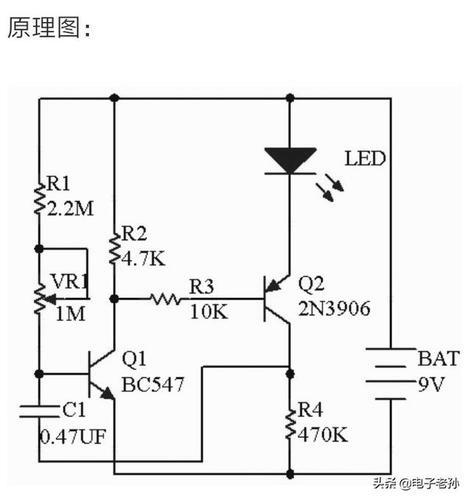cap1: (12, 403, 66, 423)
diode: (258, 144, 323, 180)
power2: (362, 343, 420, 405)
res2: (106, 225, 125, 272), (146, 289, 186, 309), (30, 177, 47, 223), (33, 277, 48, 318), (282, 405, 297, 441)
triode: (260, 268, 298, 336), (83, 344, 118, 408)
